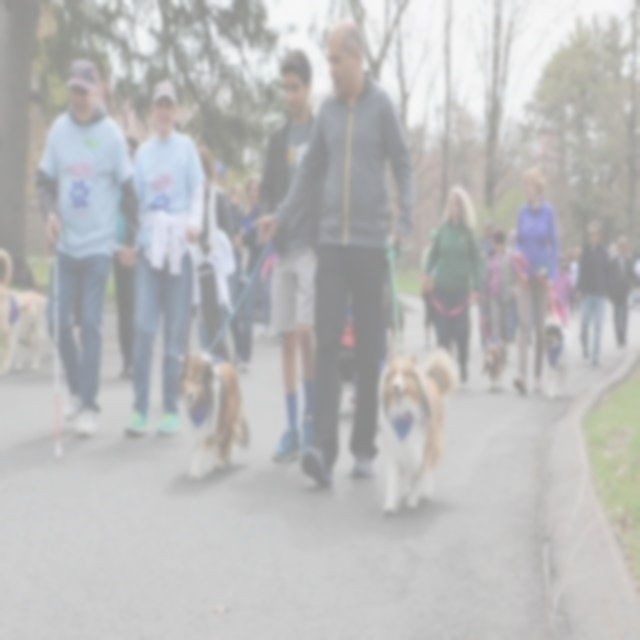pessoa: (251, 16, 418, 486), (32, 55, 142, 441), (126, 76, 200, 446), (257, 47, 316, 462), (420, 182, 485, 386), (511, 165, 561, 396), (192, 144, 235, 368), (195, 157, 236, 365), (224, 172, 266, 372), (112, 133, 143, 382), (572, 217, 613, 365), (483, 225, 522, 348), (602, 232, 640, 348), (476, 216, 497, 351), (420, 226, 440, 350), (228, 181, 250, 286), (260, 244, 278, 338), (553, 254, 573, 328), (564, 246, 584, 317), (628, 224, 640, 314), (562, 240, 574, 266), (604, 239, 618, 257), (506, 227, 518, 247), (575, 241, 584, 257)
